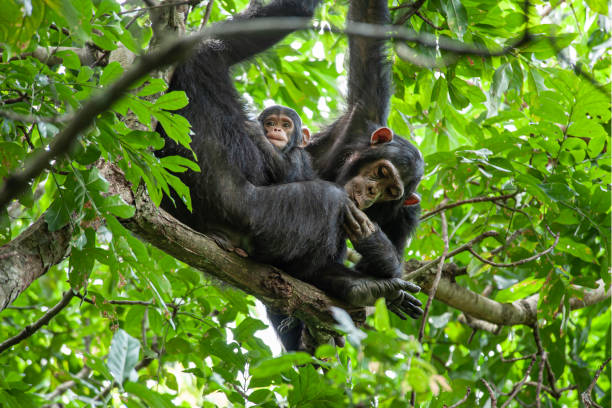chimpanzee: (337, 111, 430, 224), (255, 99, 312, 167)
